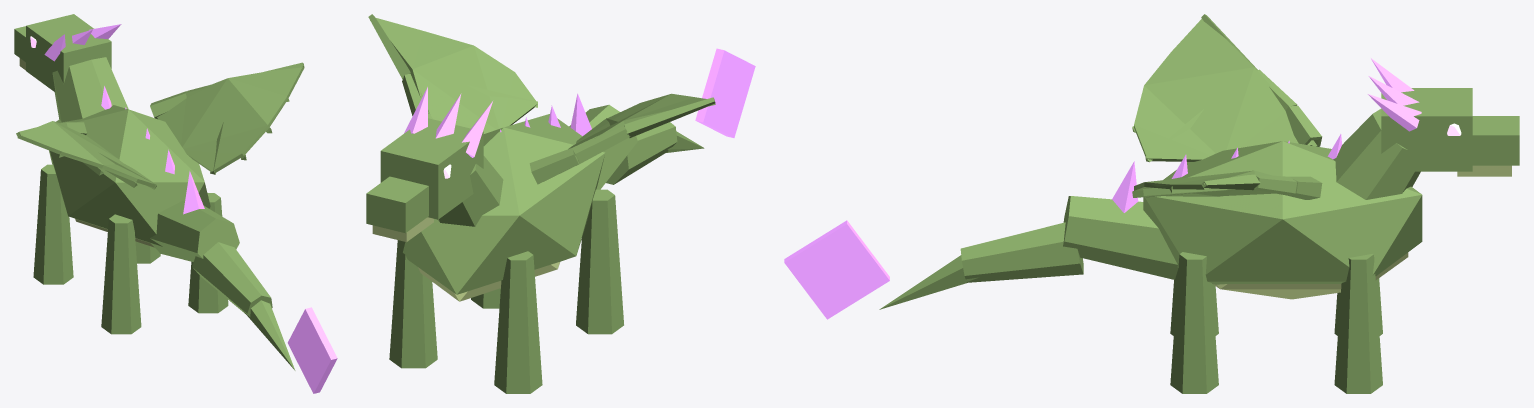
File: dragon_venom.glb
3 renders of one model, left to right at view 1: azimuth 30°, elevation 25°; view 2: azimuth 150°, elevation 25°; view 3: azimuth 270°, elevation 25°, orthographic. The views are drawn at different scales.
Visible parts, largest first — view 1: DragonBody; view 2: DragonBody; view 3: DragonBody.
Boxes of the visible parts, bbox=[...] form: DragonBody: bbox=[14, 14, 337, 393]; DragonBody: bbox=[366, 14, 755, 393]; DragonBody: bbox=[784, 14, 1519, 393].
Bounding box in the file's own units: 2.43 × 1.91 × 4.45.
